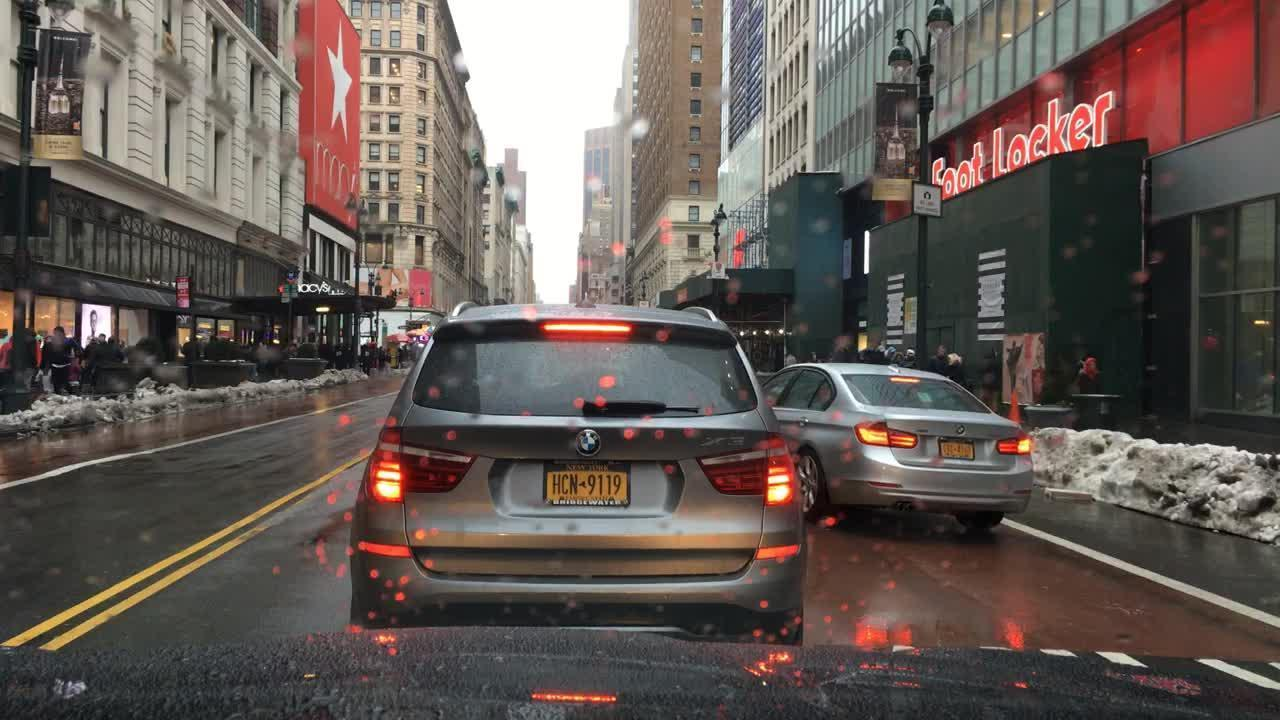bmw: (568, 426, 610, 464), (955, 423, 967, 437)
